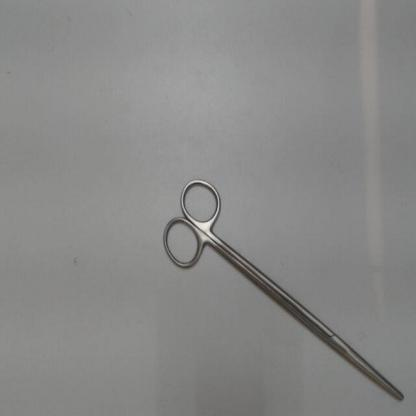9 Metzenbaum Scissors: (156, 168, 406, 404)
